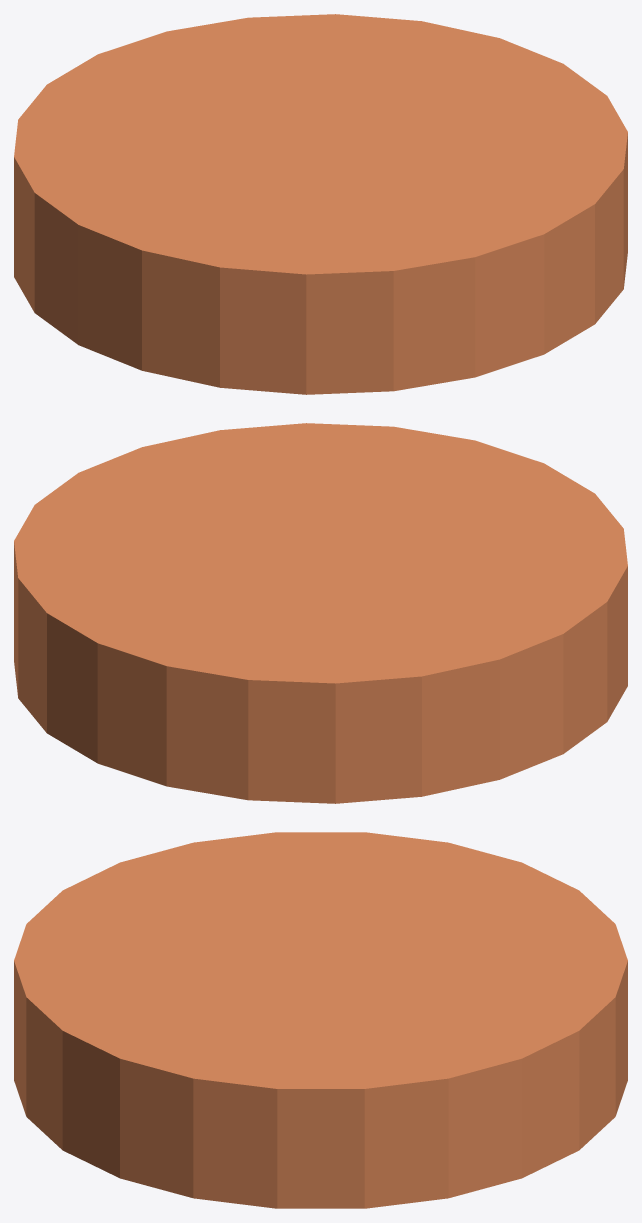
The model's file is coin0205.fbx.
The picture shows the model from 3 angles, top to bottom: view 1: azimuth 30°, elevation 25°; view 2: azimuth 150°, elevation 25°; view 3: azimuth 270°, elevation 25°; orthographic projection.
Parts seen in each view (by area): view 1: Cylinder; view 2: Cylinder; view 3: Cylinder.
Boxes of the visible parts, left/top/right/bottom form: Cylinder: left=14, top=14, right=627, bottom=394; Cylinder: left=14, top=423, right=627, bottom=803; Cylinder: left=14, top=832, right=627, bottom=1208.
Size of the model in its own units: 198 by 43.05 by 200.
